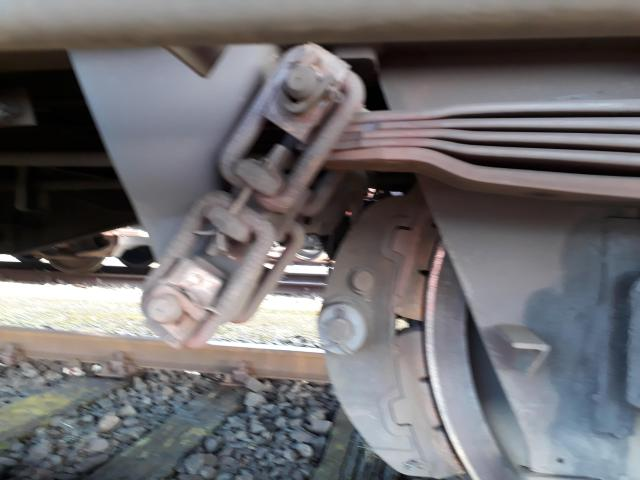blattfederww: (298, 90, 640, 183)
